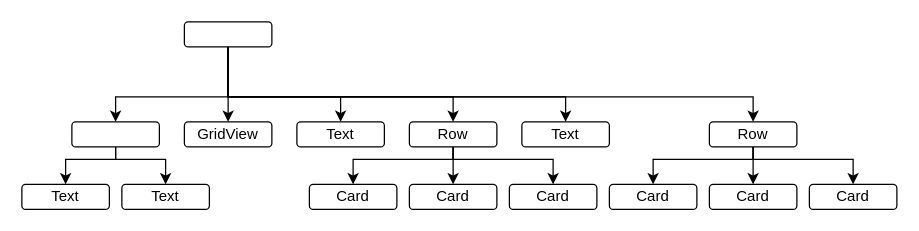
Image size: 919x231. Some labels were removed from this diagram. The centre of each missing label's shape, as x and y in pixels:
Column: point 227,34
Container: point 115,134
